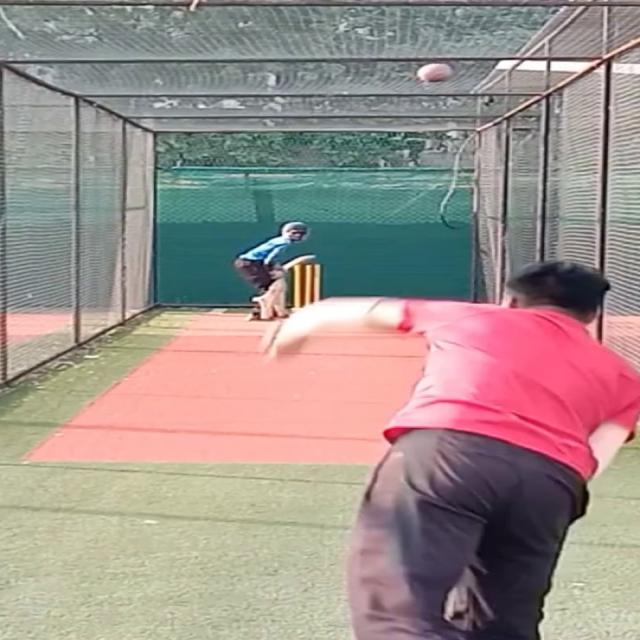ball: (418, 59, 458, 83)
stump: (292, 262, 328, 314)
